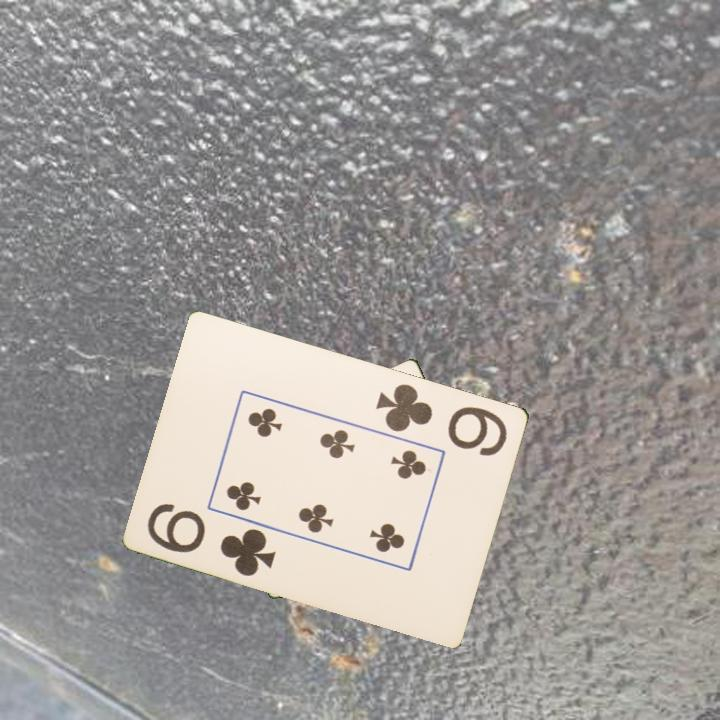6c: (373, 379, 511, 459), (144, 499, 279, 579)
